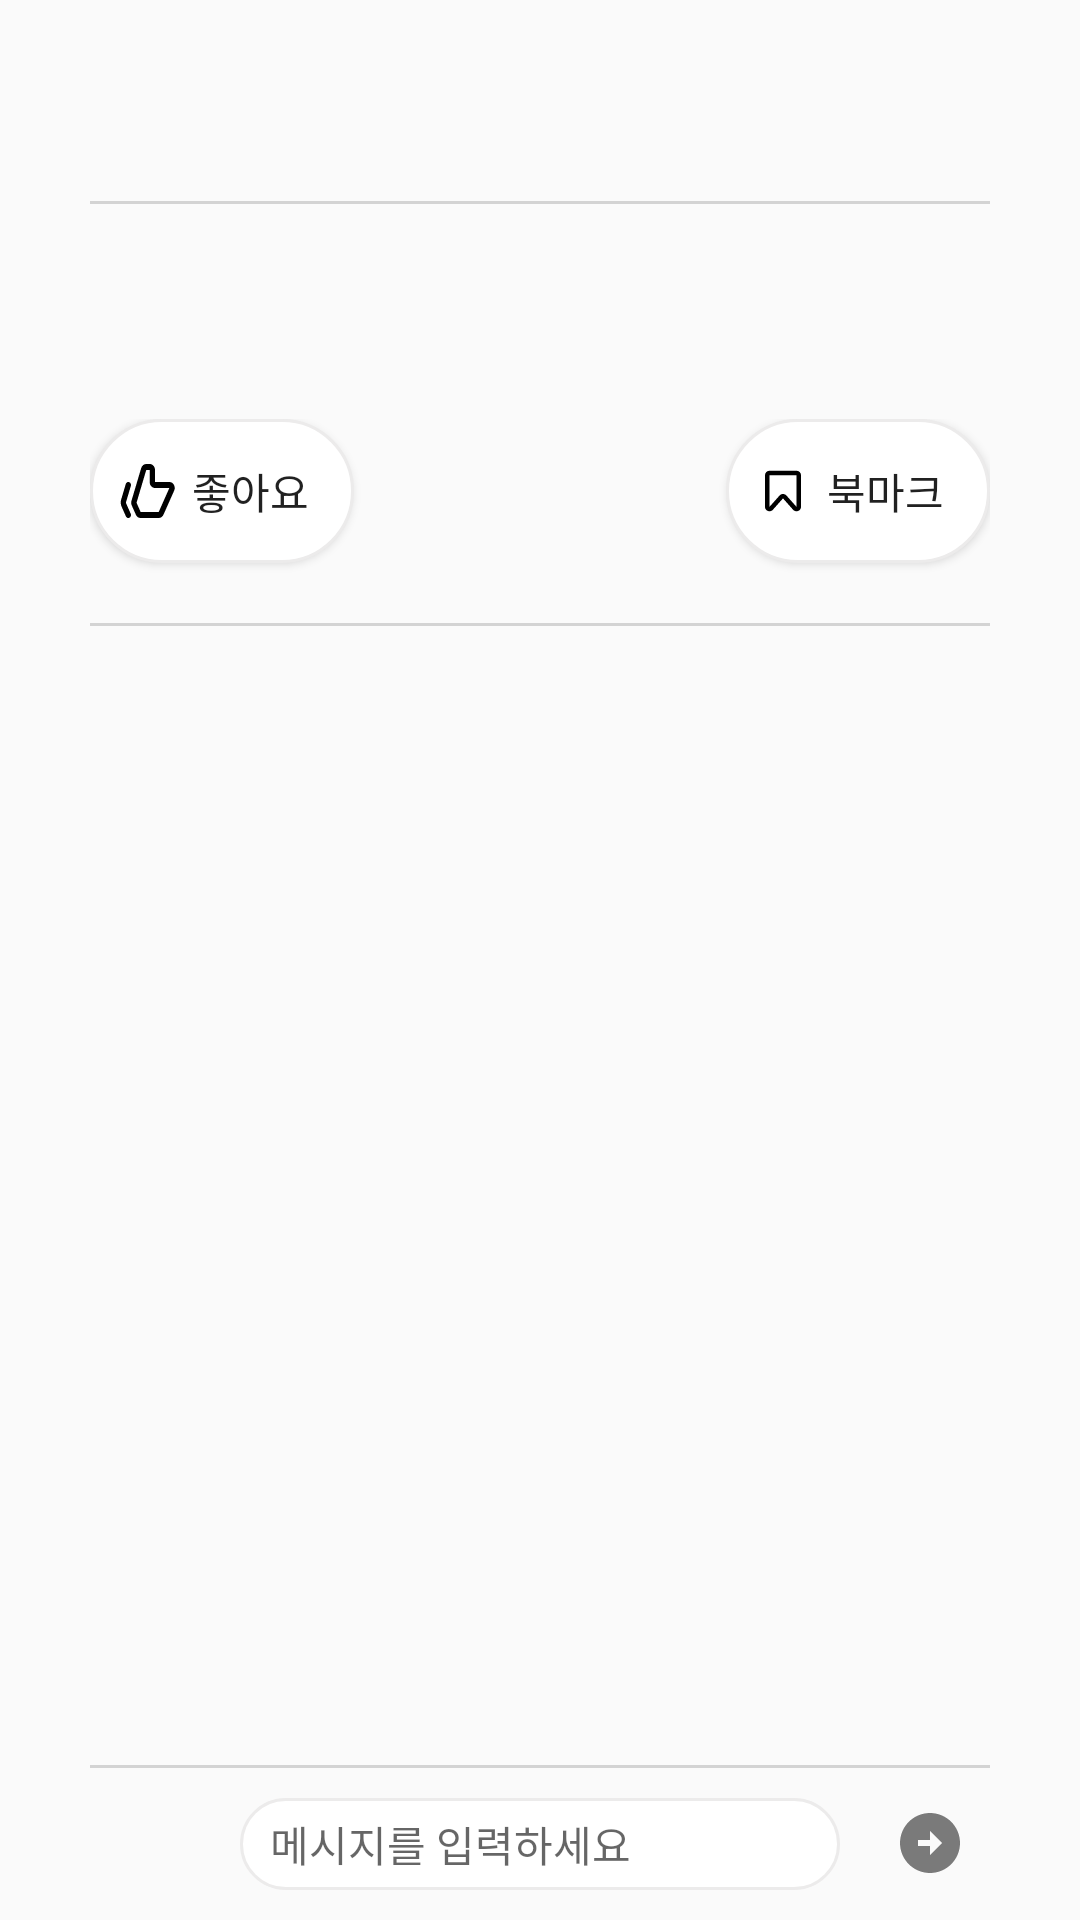

Where icons sit on this 1080x1920 app screen, as detection(x1, y1, x2, y2):
댓글 쓰기 버튼: detection(900, 1813, 960, 1873)
